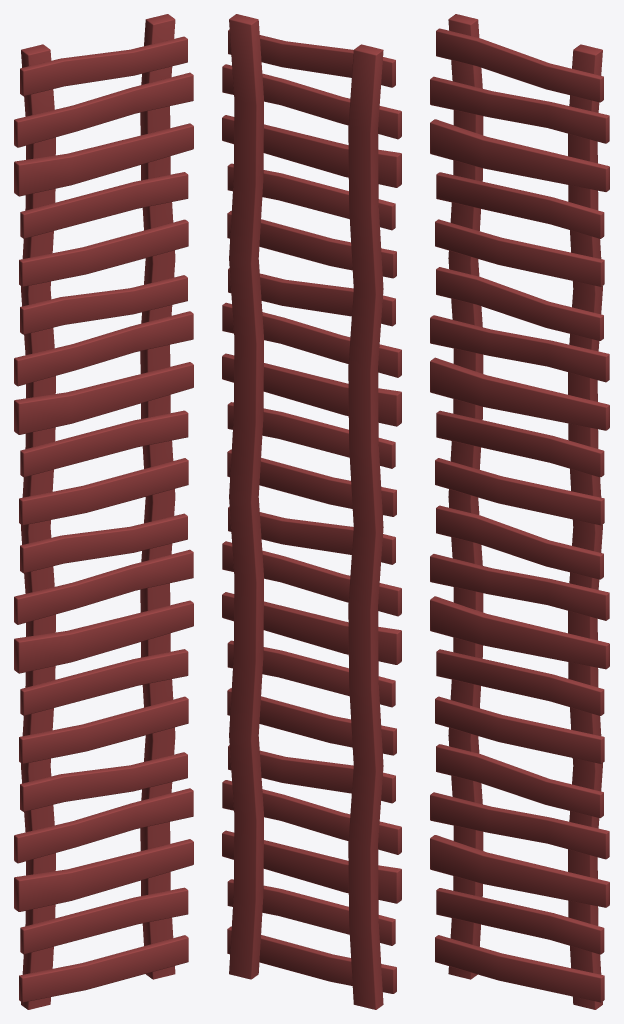
File: echelle_4blocs.fbx
3 renders of one model, left to right at view 1: azimuth 30°, elevation 25°; view 2: azimuth 150°, elevation 25°; view 3: azimuth 330°, elevation 25°, orthographic.
Visible parts, largest first — view 1: echelle_04_part01, echelle_04_part20, echelle_04_part15, echelle_04_part10, echelle_04_part04, echelle_04_part05, echelle_04_part21, echelle_04_part16, echelle_04_part11, echelle_04_part08, echelle_04_part02, echelle_04_part13 (+9 smaller); view 2: echelle_04_part01, echelle_04_part04, echelle_04_part20, echelle_04_part15, echelle_04_part10, echelle_04_part05, echelle_04_part16, echelle_04_part11, echelle_04_part21, echelle_04_part08, echelle_04_part13, echelle_04_part02 (+9 smaller); view 3: echelle_04_part01, echelle_04_part15, echelle_04_part04, echelle_04_part10, echelle_04_part20, echelle_04_part16, echelle_04_part21, echelle_04_part11, echelle_04_part05, echelle_04_part02, echelle_04_part08, echelle_04_part18 (+9 smaller).
Part boxes in pixels (box(x1,y1,x2,y2)): echelle_04_part01: box(21, 14, 175, 1009); echelle_04_part20: box(14, 123, 193, 196); echelle_04_part15: box(14, 362, 193, 434); echelle_04_part10: box(14, 600, 193, 673); echelle_04_part04: box(14, 839, 193, 911); echelle_04_part05: box(14, 788, 193, 863); echelle_04_part21: box(14, 72, 193, 147); echelle_04_part16: box(14, 311, 193, 386); echelle_04_part11: box(14, 549, 193, 624); echelle_04_part08: box(19, 696, 188, 763); echelle_04_part02: box(19, 935, 188, 1002); echelle_04_part13: box(19, 458, 188, 525); echelle_04_part01: box(229, 14, 383, 1009); echelle_04_part04: box(222, 830, 401, 903); echelle_04_part20: box(222, 115, 401, 187); echelle_04_part15: box(222, 353, 401, 426); echelle_04_part10: box(222, 592, 401, 664); echelle_04_part05: box(222, 780, 401, 854); echelle_04_part16: box(222, 302, 401, 377); echelle_04_part11: box(222, 541, 401, 616); echelle_04_part21: box(222, 64, 401, 139); echelle_04_part08: box(227, 688, 396, 755); echelle_04_part13: box(227, 449, 396, 516); echelle_04_part02: box(227, 926, 396, 993); echelle_04_part01: box(448, 14, 602, 1009); echelle_04_part15: box(430, 357, 609, 430); echelle_04_part04: box(430, 835, 609, 907); echelle_04_part10: box(430, 596, 609, 669); echelle_04_part20: box(430, 119, 609, 191); echelle_04_part16: box(430, 315, 609, 382); echelle_04_part21: box(430, 76, 609, 143); echelle_04_part11: box(430, 554, 609, 620); echelle_04_part05: box(430, 792, 609, 859); echelle_04_part02: box(435, 935, 604, 1002); echelle_04_part08: box(435, 696, 604, 763); echelle_04_part18: box(435, 219, 604, 286).
Bounding box in the file's own units: 1.55 × 8.01 × 0.1855.
